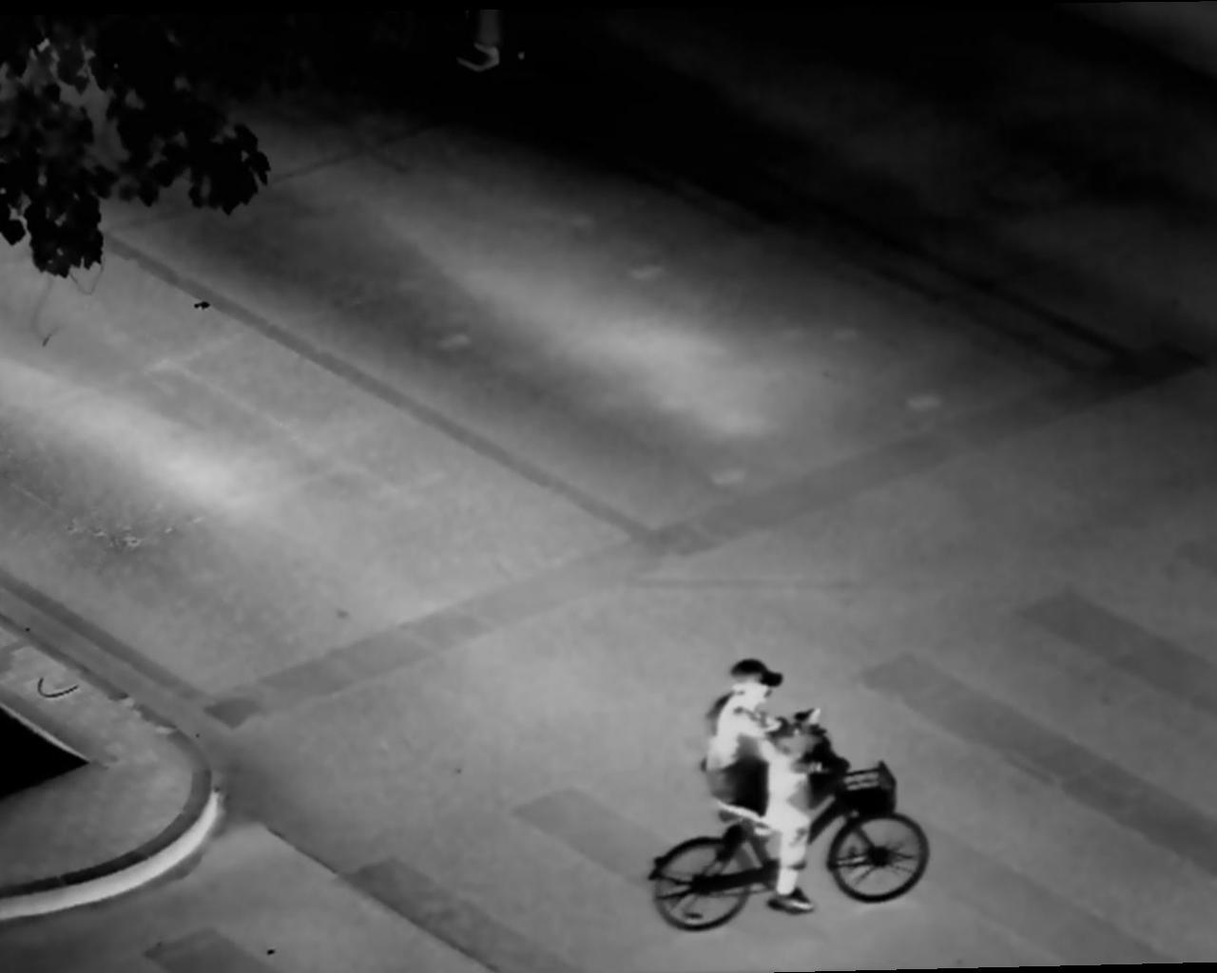person: (704, 646, 830, 924)
